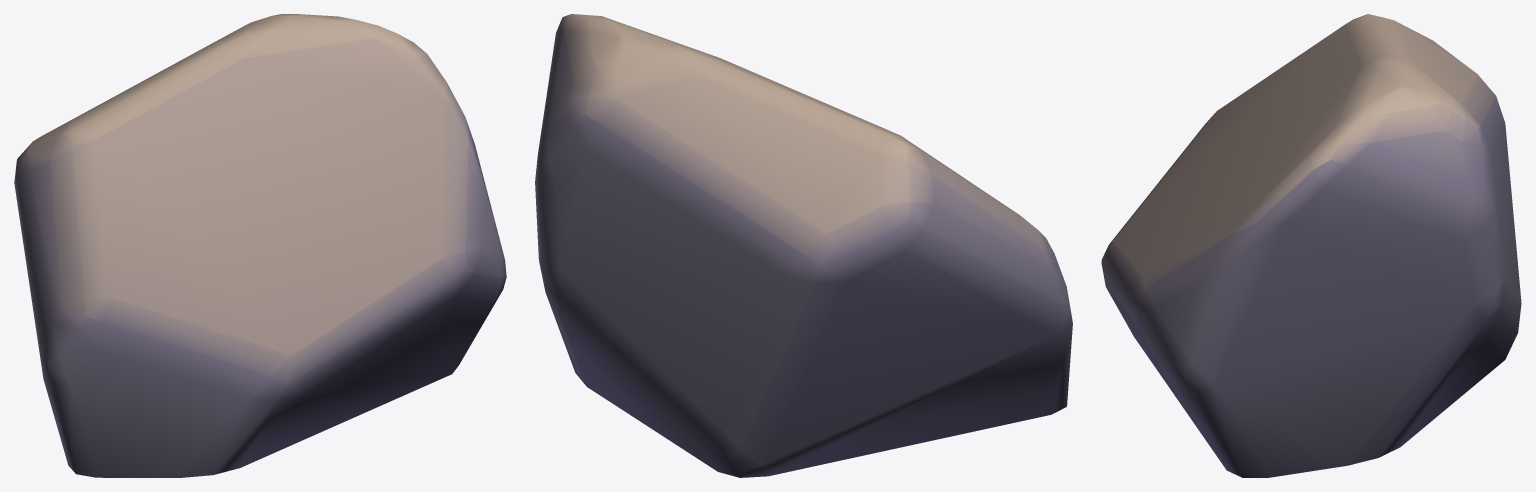
Rendered from Boulder2.fbx.
3 renders of one model, left to right at view 1: azimuth 30°, elevation 25°; view 2: azimuth 150°, elevation 25°; view 3: azimuth 270°, elevation 25°, orthographic. The views are drawn at different scales.
Visible parts, largest first — view 1: Boulder2; view 2: Boulder2; view 3: Boulder2.
Part boxes in pixels (<box>): Boulder2: <box>14,14,506,477</box>; Boulder2: <box>535,14,1072,477</box>; Boulder2: <box>1101,14,1521,477</box>.
Bounding box in the file's own units: 1 × 0.6939 × 0.7715.
